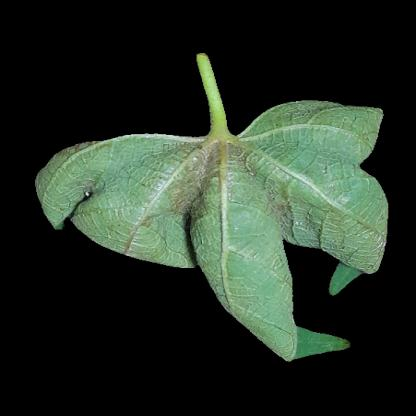curl_stage2: (200, 154, 285, 275), (290, 125, 362, 241), (68, 157, 175, 221), (213, 279, 290, 325), (104, 222, 196, 258)
